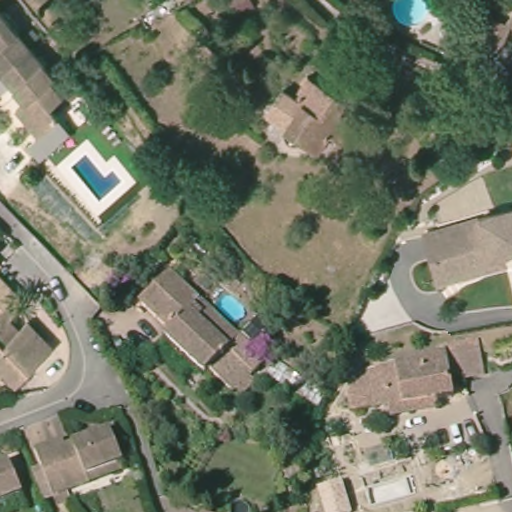pool: (71, 156, 122, 203), (213, 290, 247, 326), (387, 1, 429, 30)
